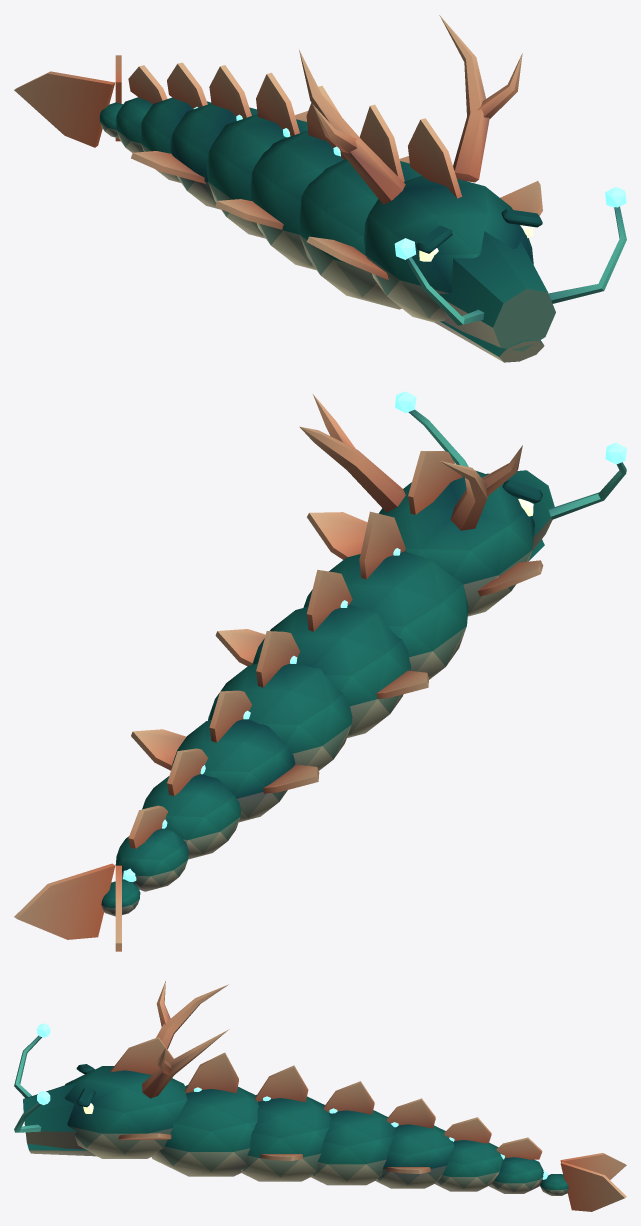
File: monster_wyrm.glb
3 views of the same model, one above another, from view 1: azimuth 30°, elevation 25°; view 2: azimuth 150°, elevation 25°; view 3: azimuth 270°, elevation 25° (orthographic). The views are drawn at different scales.
Parts seen in each view (by area): view 1: head, seg_1, seg_2, seg_3, seg_4, seg_7, seg_5, seg_6, jaw; view 2: head, seg_2, seg_1, seg_4, seg_3, seg_7, seg_5, seg_6; view 3: head, seg_1, seg_2, seg_3, seg_4, seg_5, seg_7, seg_6, jaw.
Boxes of the visible parts, <box> form: head: <box>299,15,626,351</box>; seg_1: <box>298,104,421,309</box>; seg_2: <box>215,85,409,270</box>; seg_3: <box>207,72,307,238</box>; seg_4: <box>131,65,307,209</box>; seg_7: <box>14,55,122,147</box>; seg_5: <box>139,62,211,182</box>; seg_6: <box>115,65,167,152</box>; jaw: <box>434,321,544,362</box>; head: <box>299,391,626,616</box>; seg_2: <box>215,569,428,737</box>; seg_1: <box>303,511,468,679</box>; seg_4: <box>131,690,319,822</box>; seg_3: <box>208,631,352,770</box>; seg_7: <box>14,863,140,951</box>; seg_5: <box>142,748,240,859</box>; seg_6: <box>115,805,188,891</box>; head: <box>14,980,229,1158</box>; seg_1: <box>151,1052,258,1176</box>; seg_2: <box>241,1065,330,1181</box>; seg_3: <box>311,1081,395,1185</box>; seg_4: <box>375,1098,453,1188</box>; seg_5: <box>435,1117,503,1191</box>; seg_7: <box>540,1153,626,1211</box>; seg_6: <box>489,1137,543,1193</box>; jaw: <box>26,1139,96,1156</box>.
Bounding box in the file's own units: 1.33 × 1.66 × 4.61.
